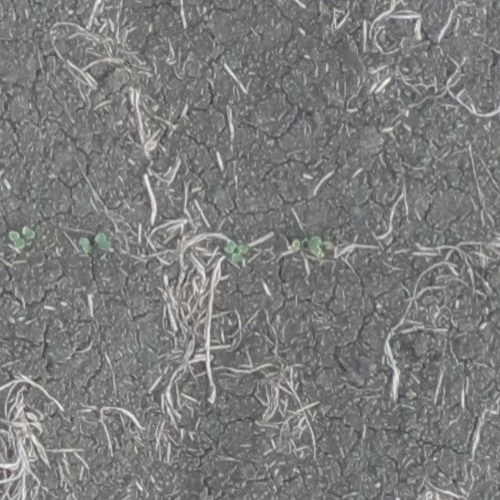plant: (80, 231, 114, 256), (8, 226, 34, 252), (289, 237, 324, 254), (226, 238, 249, 262)
